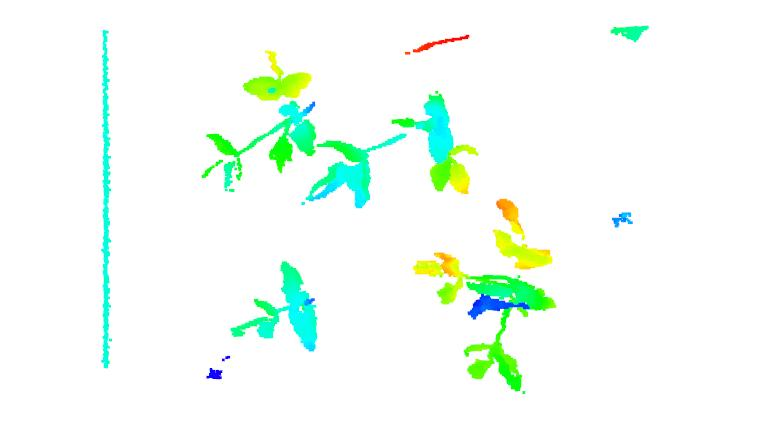mungbean: (416, 199, 560, 395), (297, 88, 478, 210), (198, 51, 323, 191), (229, 258, 327, 353)
